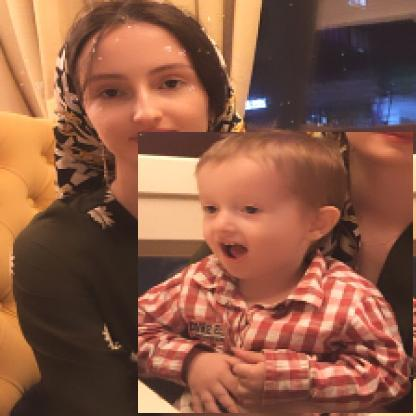child: (139, 133, 415, 415)
